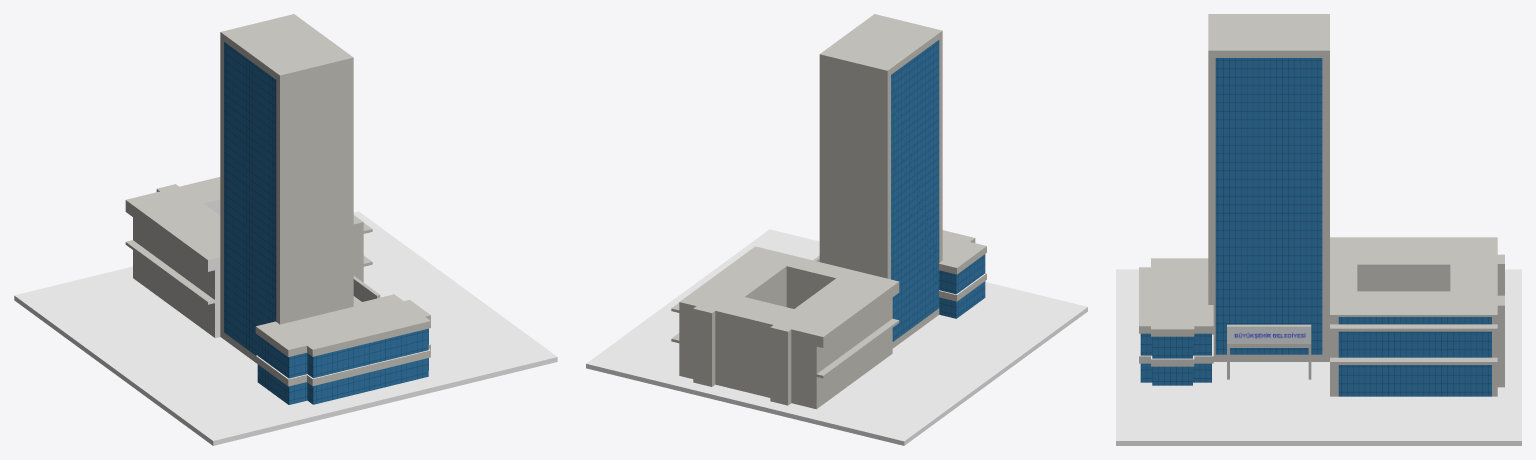
The model's file is buyuksehir_belediye.dae.
3 views of the same model, side by side, from view 1: azimuth 30°, elevation 25°; view 2: azimuth 150°, elevation 25°; view 3: azimuth 270°, elevation 25° (orthographic). The views are drawn at different scales.
Parts seen in each view (by area): view 1: group_0 (×4); view 2: group_0 (×4); view 3: group_0 (×10).
Boxes of the visible parts, x1=… form: group_0 (×4): x1=14, y1=14, x2=557, y2=445; group_0 (×4): x1=586, y1=14, x2=1087, y2=445; group_0 (×10): x1=1116, y1=14, x2=1521, y2=445.
Bounding box in the file's own units: 402 × 402 × 345.
4 materials, 3 textured.
